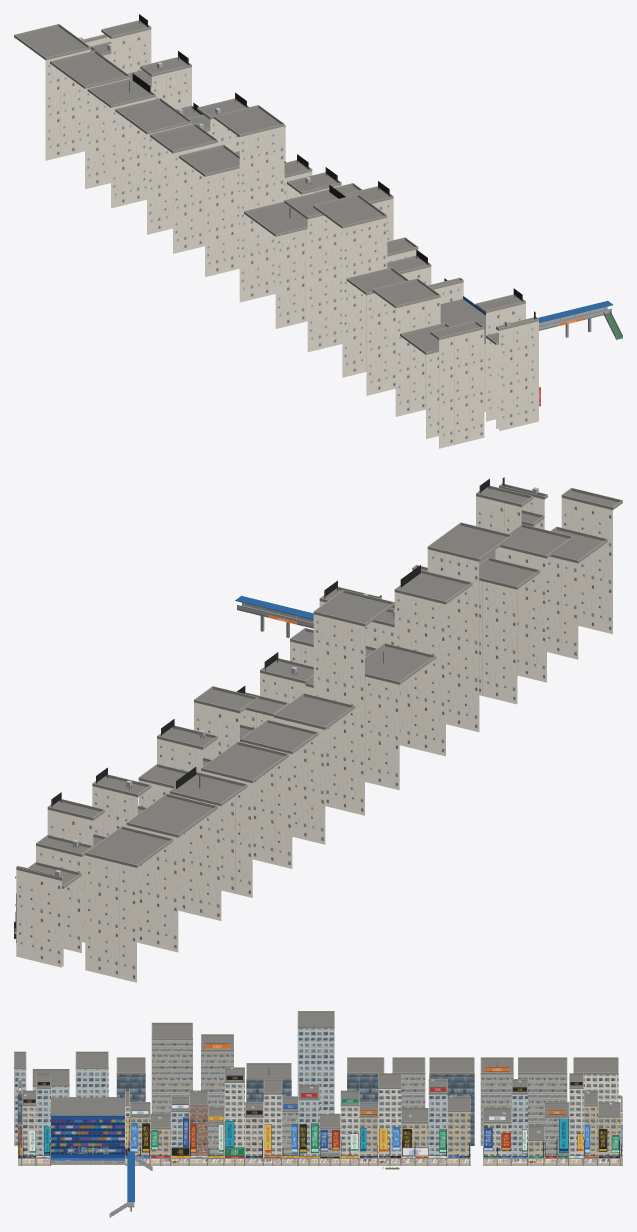
File: campus_gongguan_bd.glb
The picture shows the model from 3 angles, top to bottom: view 1: azimuth 30°, elevation 25°; view 2: azimuth 150°, elevation 25°; view 3: azimuth 270°, elevation 25°; orthographic projection. The views are drawn at different scales.
Visible parts, largest first — view 1: gg_bd_facades, gg_bd_parts; view 2: gg_bd_facades, gg_bd_parts; view 3: gg_bd_facades, gg_bd_parts, gg_bd_signboards, gg_bd_marketface, gg_bd_shops.
Boxes of the visible parts, <box> form: gg_bd_facades: <box>45,29,538,448</box>; gg_bd_parts: <box>14,14,622,387</box>; gg_bd_facades: <box>16,496,612,982</box>; gg_bd_parts: <box>14,477,622,944</box>; gg_bd_facades: <box>14,1028,622,1158</box>; gg_bd_parts: <box>14,1011,622,1217</box>; gg_bd_signboards: <box>18,1044,622,1157</box>; gg_bd_marketface: <box>51,1117,124,1164</box>; gg_bd_shops: <box>18,1159,621,1163</box>.
Size of the model in its own units: 101 by 64.2 by 296.
5 materials, 4 textured.
